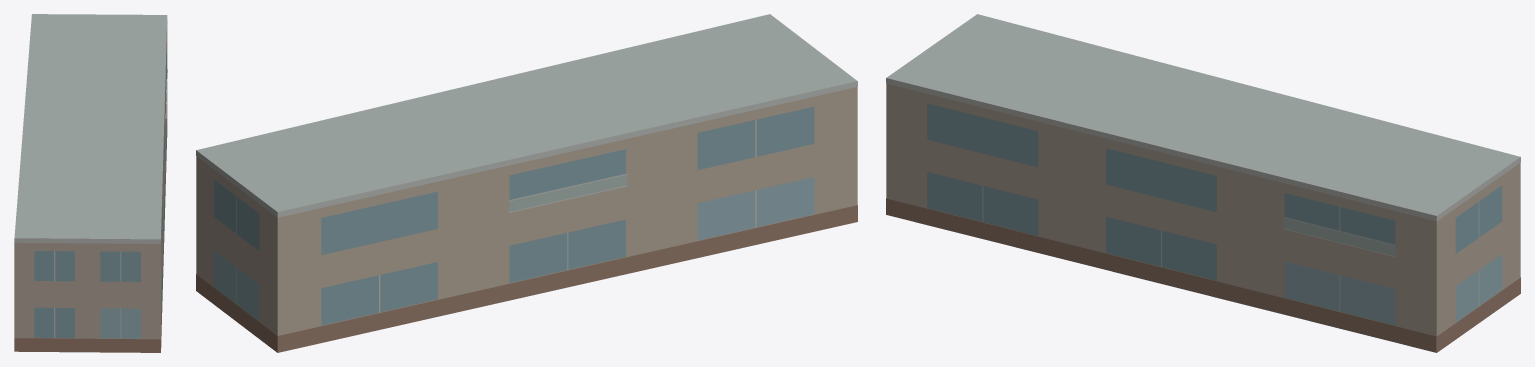
Rendered from survey-upis-32687117.glb.
3 renders of one model, left to right at view 1: azimuth 30°, elevation 25°; view 2: azimuth 150°, elevation 25°; view 3: azimuth 270°, elevation 25°, orthographic. The views are drawn at different scales.
Parts seen in each view (by area): view 1: survey-upis-32687117.tmp; view 2: survey-upis-32687117.tmp; view 3: survey-upis-32687117.tmp.
Boxes of the visible parts, bbox=[...] form: survey-upis-32687117.tmp: bbox=[14, 14, 167, 352]; survey-upis-32687117.tmp: bbox=[196, 14, 857, 352]; survey-upis-32687117.tmp: bbox=[886, 14, 1520, 352].
Bounding box in the file's own units: 19.32 × 6.1 × 25.64.
